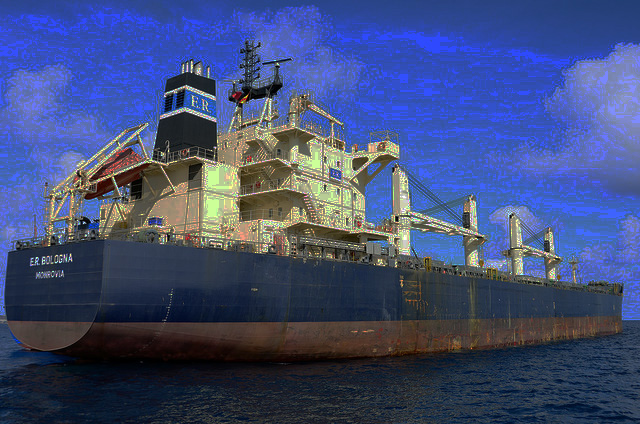bulk carrier: (8, 42, 627, 357)
